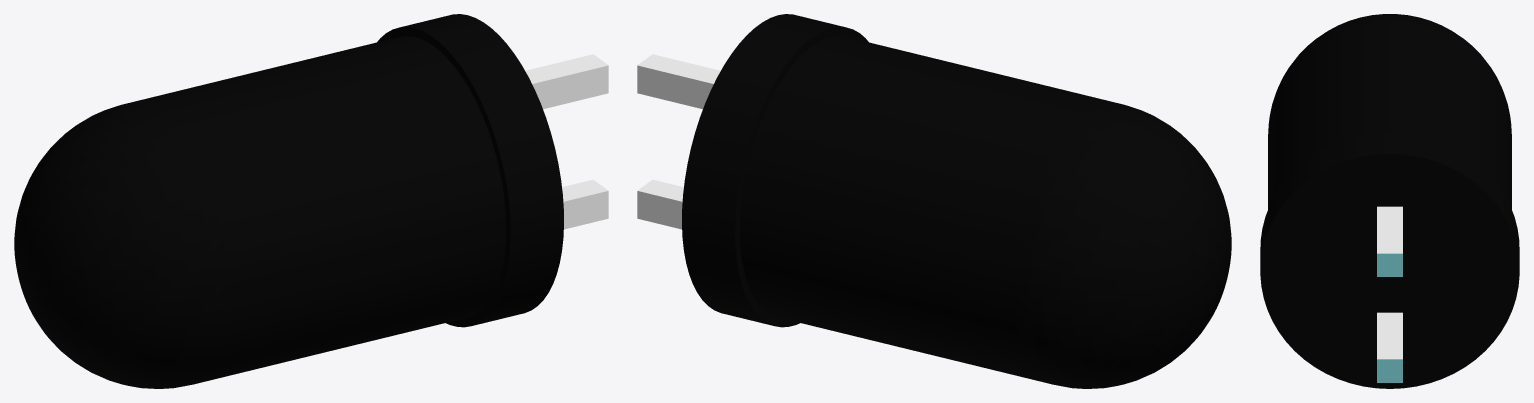
The model's file is photodioda.fbx.
3 renders of one model, left to right at view 1: azimuth 30°, elevation 25°; view 2: azimuth 150°, elevation 25°; view 3: azimuth 270°, elevation 25°, orthographic. The views are drawn at different scales.
Parts seen in each view (by area): view 1: ImageToStl.com_resistor025w-1k0.008; view 2: ImageToStl.com_resistor025w-1k0.008; view 3: ImageToStl.com_resistor025w-1k0.008.
Part boxes in pixels (left/top/right/bottom): ImageToStl.com_resistor025w-1k0.008: left=14, top=14, right=608, bottom=388; ImageToStl.com_resistor025w-1k0.008: left=637, top=14, right=1231, bottom=388; ImageToStl.com_resistor025w-1k0.008: left=1260, top=14, right=1519, bottom=388.
Bounding box in the file's own units: 47.87 × 22.49 × 22.49.
